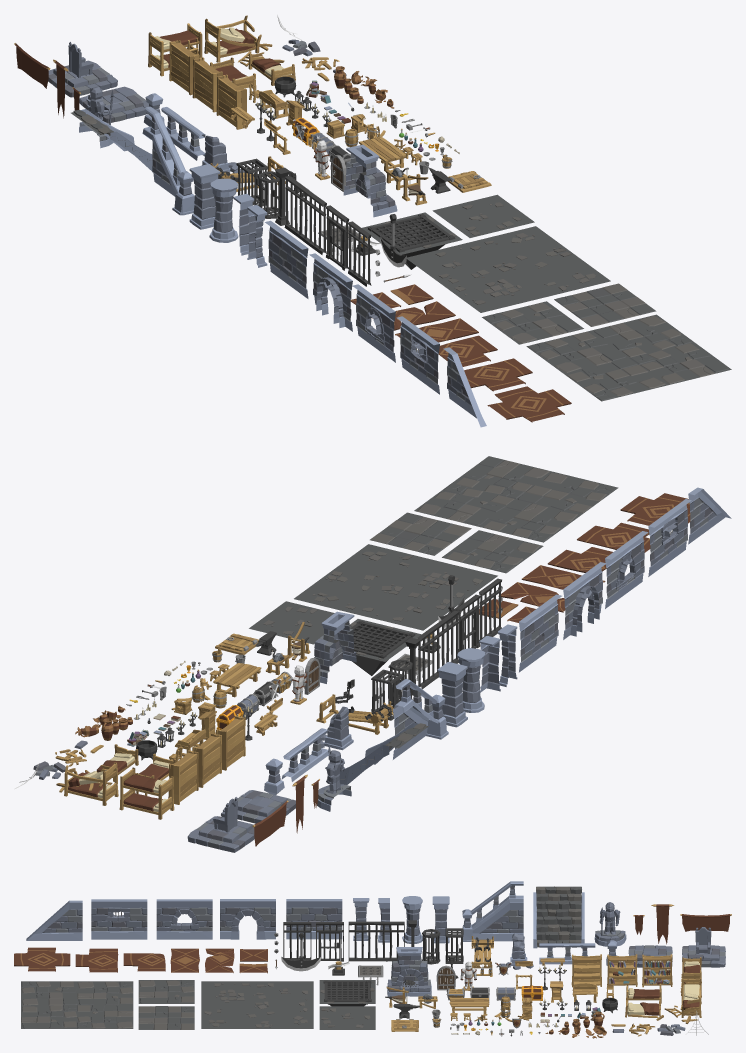
3 views of the same model, one above another, from view 1: azimuth 30°, elevation 25°; view 2: azimuth 150°, elevation 25°; view 3: azimuth 270°, elevation 25° (orthographic). The views are drawn at different scales.
Parts seen in each view (by area): view 1: Ground_Tiles_Large, Ground_Large, Wall_Stairs_Fence, Floor_Grate, Ground_Tiles, Ground_Tiles_Damaged, Ground_Small, Forge_Furnace, Wall, Wall_Prison_Window, Wall_Window, Wall_Door (+28 smaller); view 2: Ground_Tiles_Large, Ground_Large, Ground_Tiles, Ground_Tiles_Damaged, Wall_Stairs_Fence, Floor_Grate, Ground_Small, Wall, Wall_Prison_Window, Throne, Wall_Window, Wall_Door (+29 smaller); view 3: Ground_Large, Ground_Tiles_Large, Stairs, Wall_Stairs_Fence, Wall_Prison_Window, Wall_Window, Wall, Wall_Door, Forge_Furnace, Wall_Angle, Floor_Grate, Ground_Small (+40 smaller).
Part boxes in pixels (bbox=[...]): Ground_Tiles_Large: bbox=[526, 314, 731, 401]; Ground_Large: bbox=[406, 226, 610, 312]; Wall_Stairs_Fence: bbox=[142, 106, 194, 215]; Floor_Grate: bbox=[362, 212, 462, 269]; Ground_Tiles: bbox=[554, 283, 656, 326]; Ground_Tiles_Damaged: bbox=[482, 301, 583, 344]; Ground_Small: bbox=[432, 194, 534, 237]; Forge_Furnace: bbox=[343, 144, 397, 217]; Wall: bbox=[265, 220, 308, 298]; Wall_Prison_Window: bbox=[396, 316, 439, 394]; Wall_Window: bbox=[352, 284, 395, 362]; Wall_Door: bbox=[309, 253, 352, 331]; Ground_Tiles_Large: bbox=[414, 456, 618, 542]; Ground_Large: bbox=[294, 544, 497, 630]; Ground_Tiles: bbox=[370, 512, 471, 555]; Ground_Tiles_Damaged: bbox=[442, 530, 543, 573]; Wall_Stairs_Fence: bbox=[393, 679, 448, 759]; Floor_Grate: bbox=[349, 619, 421, 675]; Ground_Small: bbox=[249, 601, 334, 644]; Wall: bbox=[519, 594, 561, 672]; Wall_Prison_Window: bbox=[648, 499, 691, 576]; Throne: bbox=[187, 797, 254, 852]; Wall_Window: bbox=[605, 531, 648, 608]; Wall_Door: bbox=[563, 562, 606, 639]; Ground_Large: bbox=[201, 981, 313, 1028]; Ground_Tiles_Large: bbox=[21, 981, 133, 1028]; Stairs: bbox=[533, 886, 584, 948]; Wall_Stairs_Fence: bbox=[462, 881, 523, 941]; Wall_Prison_Window: bbox=[91, 899, 147, 939]; Wall_Window: bbox=[156, 899, 212, 939]; Wall: bbox=[286, 899, 342, 939]; Wall_Door: bbox=[220, 899, 275, 939]; Forge_Furnace: bbox=[387, 947, 431, 996]; Wall_Angle: bbox=[26, 900, 82, 940]; Floor_Grate: bbox=[319, 980, 375, 1006]; Ground_Small: bbox=[319, 1006, 375, 1029].
Bounding box in the file's own units: 4.82 × 1.64 × 12.78.
2 materials, 1 textured.
